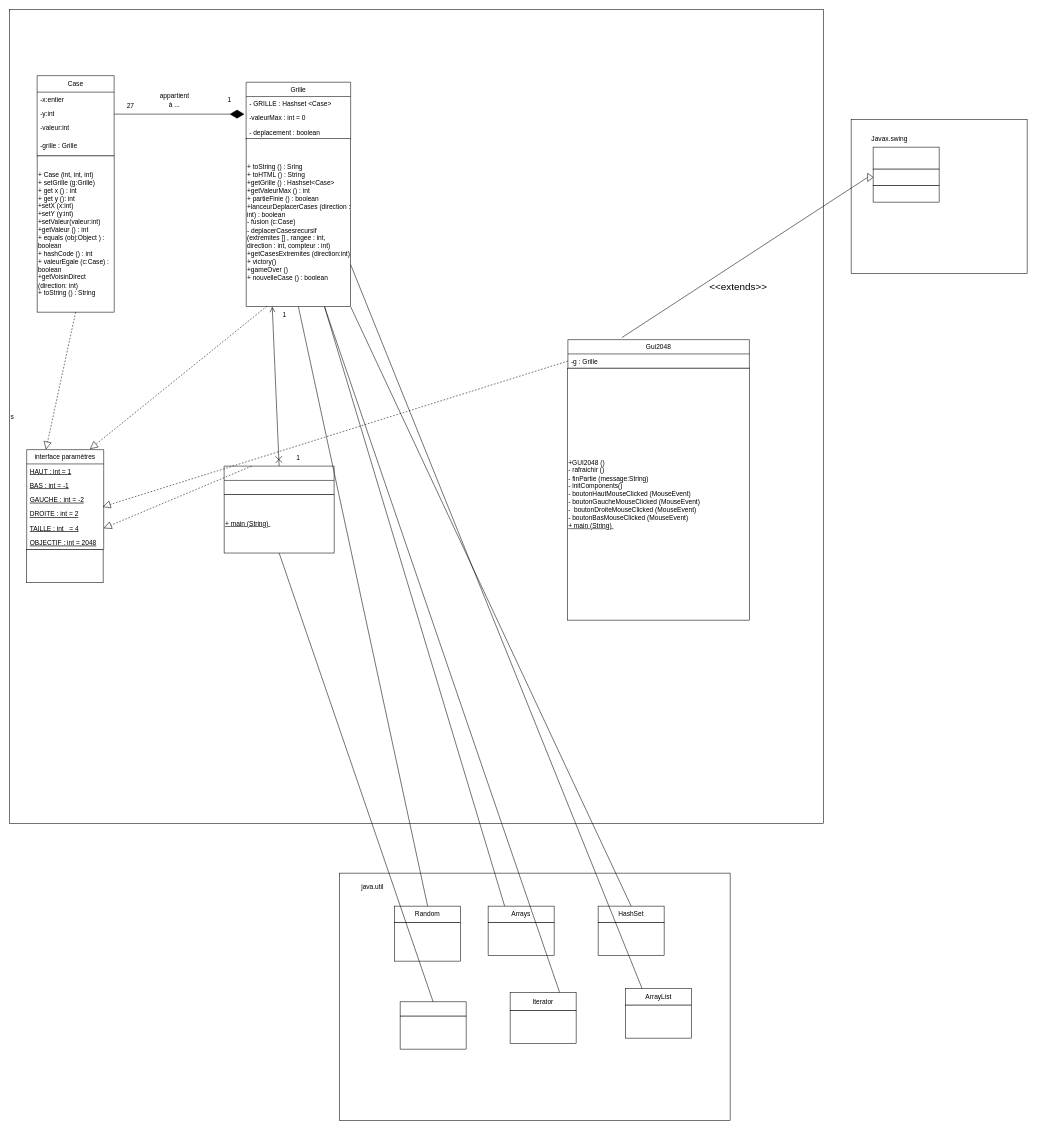
Image size: 1037x1130. Some labels were removed from this diagram. The centre of each missing label's shape, as x and y in pixels:
"JFrame" goes at [906,158].
"main" goes at [279,480].
"Scanner" goes at [433,1008].
